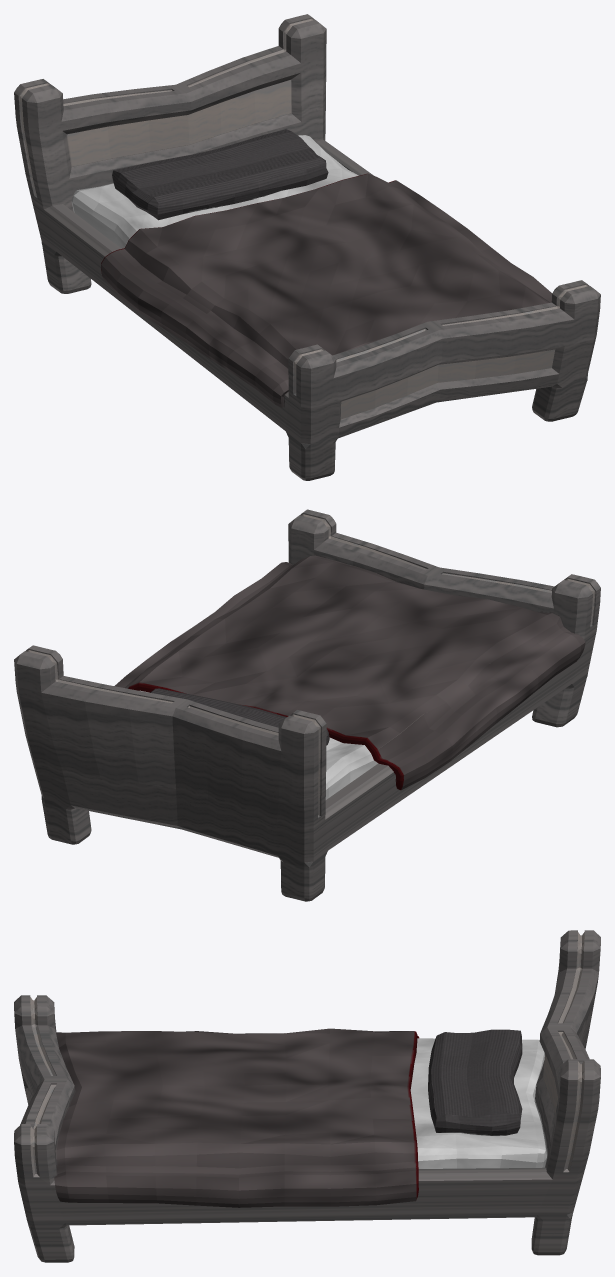
Rendered from Bed2.fbx.
3 views of the same model, one above another, from view 1: azimuth 30°, elevation 25°; view 2: azimuth 150°, elevation 25°; view 3: azimuth 270°, elevation 25° (orthographic).
Parts seen in each view (by area): view 1: Bed2Baked; view 2: Bed2Baked; view 3: Bed2Baked.
Part boxes in pixels (x1=…): Bed2Baked: x1=14, y1=14, x2=600, y2=480; Bed2Baked: x1=14, y1=509, x2=600, y2=901; Bed2Baked: x1=14, y1=930, x2=600, y2=1262.
Bounding box in the file's own units: 281 × 169 × 455.
